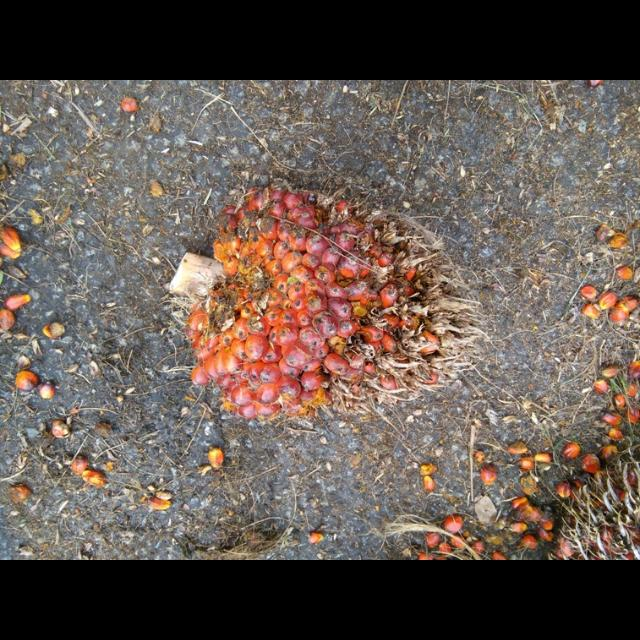Ripe: (184, 177, 470, 434)
